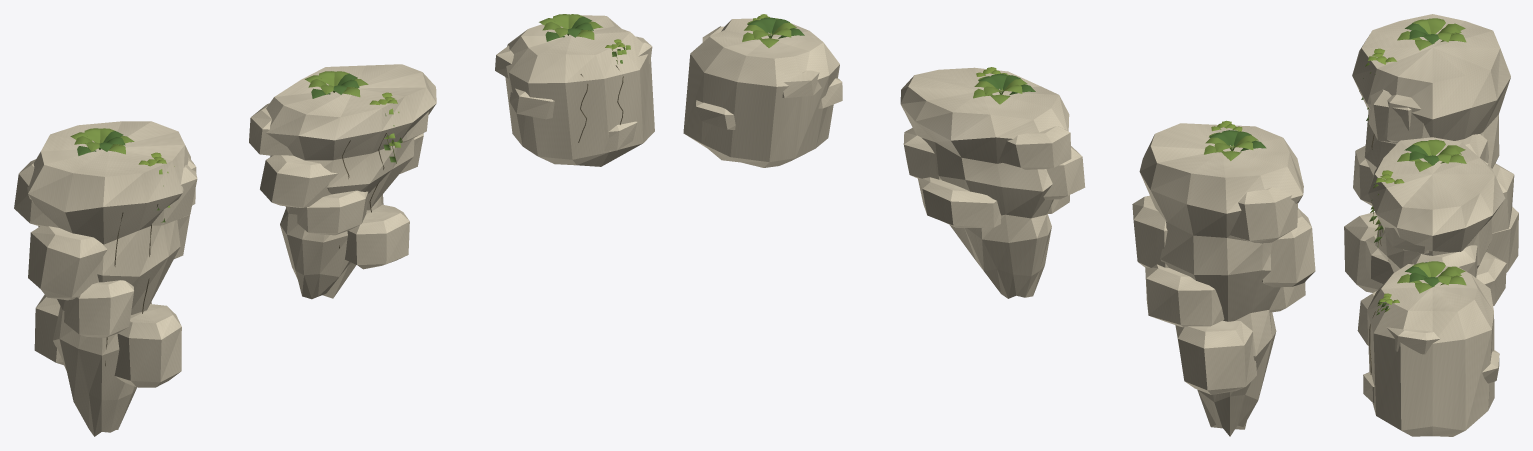
Rendered from floating-rock-kit.glb.
3 views of the same model, side by side, from view 1: azimuth 30°, elevation 25°; view 2: azimuth 150°, elevation 25°; view 3: azimuth 270°, elevation 25° (orthographic). The views are drawn at different scales.
Visible parts, largest first — view 1: floating-limestone (×3), floating-rock-a-core, floating-rock-b-core, floating-rock-c-core, courtyard-foliage (×3); view 2: floating-limestone (×3), floating-rock-a-core, floating-rock-b-core, floating-rock-c-core, courtyard-foliage (×3); view 3: floating-rock-c-core, floating-rock-a-core, floating-limestone (×3), floating-rock-b-core, courtyard-foliage (×3).
Part boxes in pixels (x1,y1,x2,y2): floating-limestone (×3): [14, 36, 652, 387]; floating-rock-a-core: [27, 121, 190, 436]; floating-rock-b-core: [266, 64, 436, 299]; floating-rock-c-core: [505, 15, 654, 166]; courtyard-foliage (×3): [70, 14, 630, 222]; floating-limestone (×3): [696, 26, 1315, 394]; floating-rock-a-core: [1139, 123, 1303, 436]; floating-rock-b-core: [900, 67, 1069, 298]; floating-rock-c-core: [683, 18, 839, 167]; courtyard-foliage (×3): [742, 14, 1266, 160]; floating-rock-c-core: [1367, 264, 1494, 436]; floating-rock-a-core: [1352, 14, 1510, 174]; floating-limestone (×3): [1344, 89, 1518, 403]; floating-rock-b-core: [1368, 137, 1505, 272]; courtyard-foliage (×3): [1361, 18, 1466, 315].
Size of the model in its own units: 10.22 by 4.74 by 2.37.
2 materials, 1 textured.
